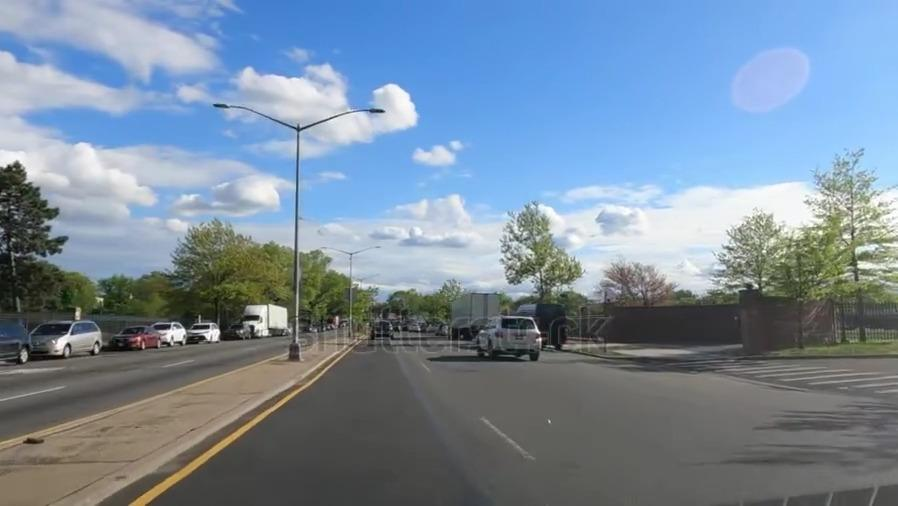car: (474, 317, 541, 359), (29, 320, 103, 358), (109, 324, 162, 352), (0, 317, 30, 365), (155, 322, 186, 345), (188, 322, 221, 343), (370, 319, 393, 340), (226, 323, 251, 340)
pedestrian: (642, 352, 898, 397)
rubbish: (544, 415, 555, 427)
truck: (448, 296, 502, 338), (243, 303, 289, 337)
van: (518, 304, 568, 347)
